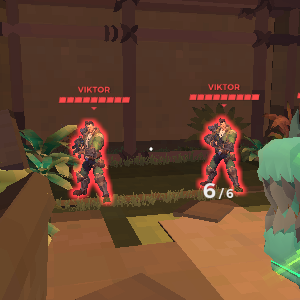model: (197, 113, 248, 197), (69, 116, 109, 209)
